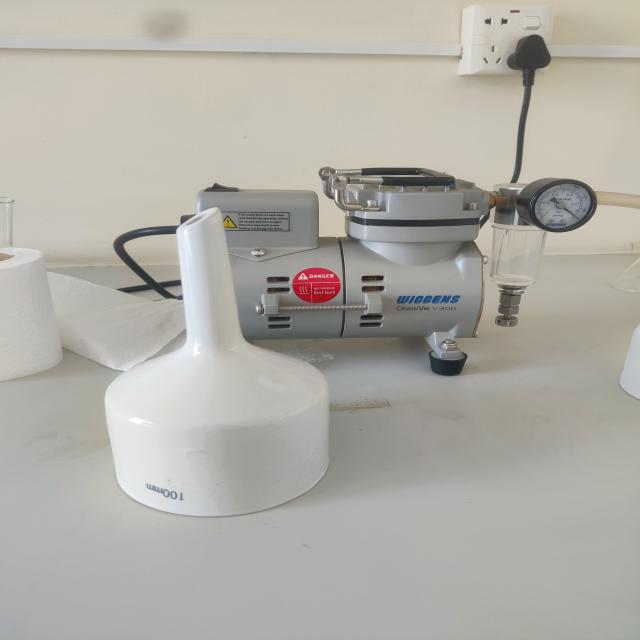Buchner_Funnel: (73, 178, 365, 541)
